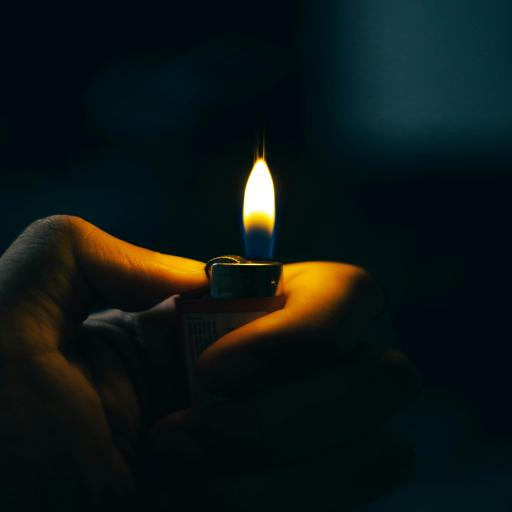lighter: (125, 124, 333, 440)
